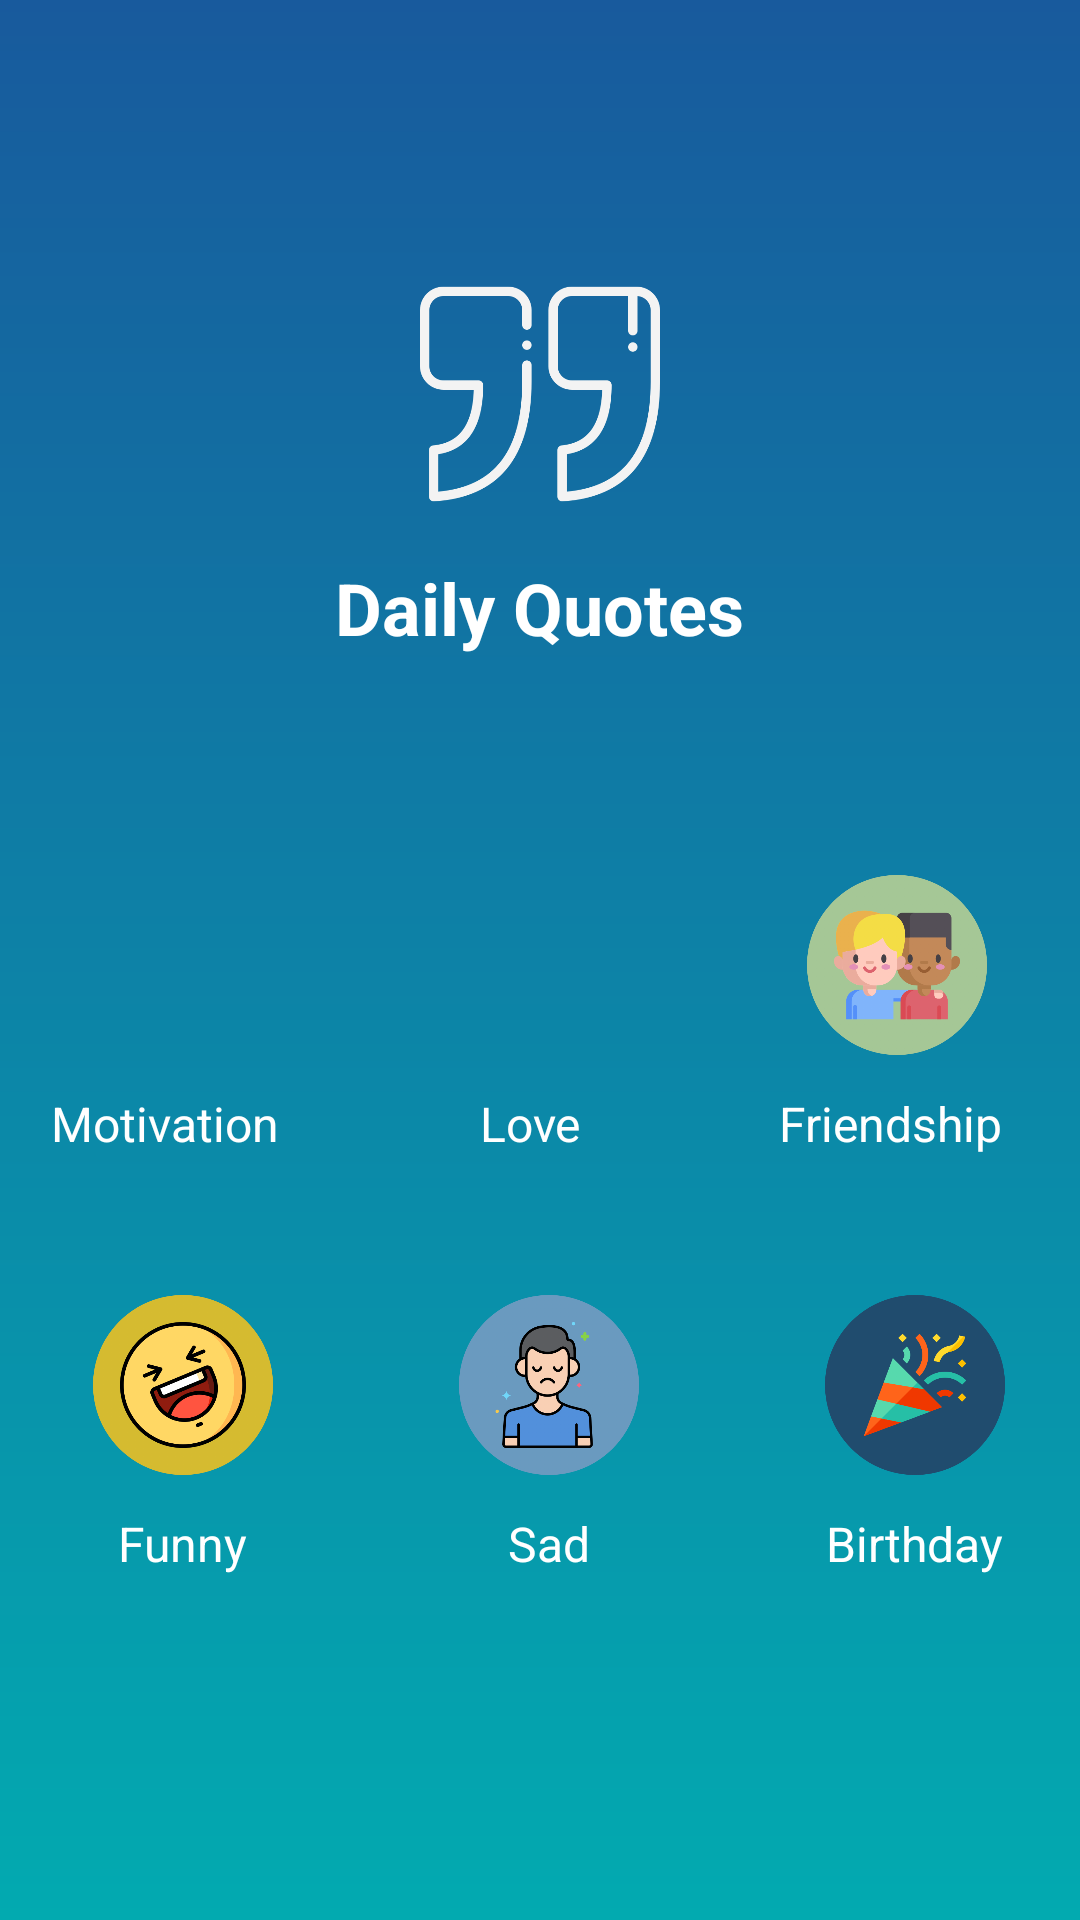

Icon bounding boxes for this 1080px×1920px phone screenshot, format (x1=x1, y1=y1, x2=x2, y2=y2):
confetti: (x1=825, y1=1295, x2=1005, y2=1475)
laughing: (x1=93, y1=1295, x2=273, y2=1475)
quotation: (x1=420, y1=286, x2=660, y2=502)
